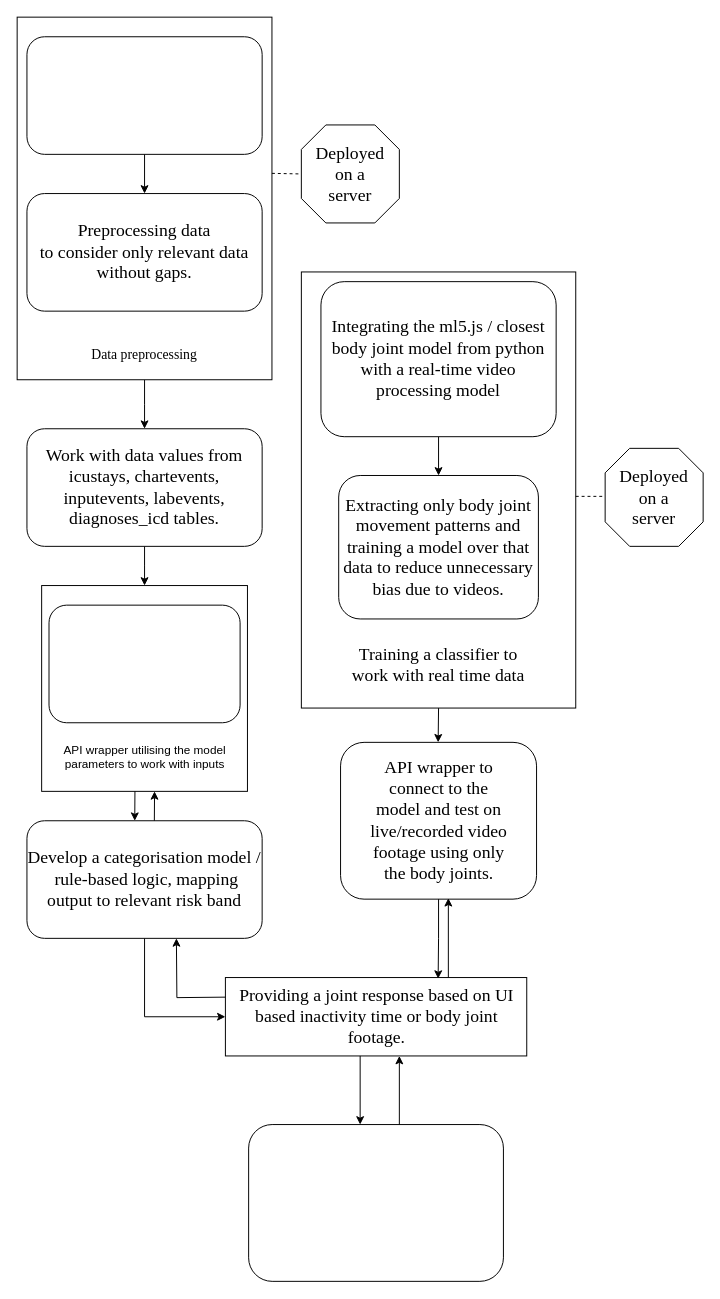
Some shapes in this 720 by 1299 pixel diagram are drawn without their labels. Each missing label, with the box of its shape:
Develop a XGBoosted branching decision tree.: (48, 604, 240, 723)
MIMIC-4 dataset with de-identified data from ~75000 ICU waveforms.: (26, 36, 262, 154)
UI based dashboard accessible via a website and login portal.: (248, 1124, 503, 1281)
